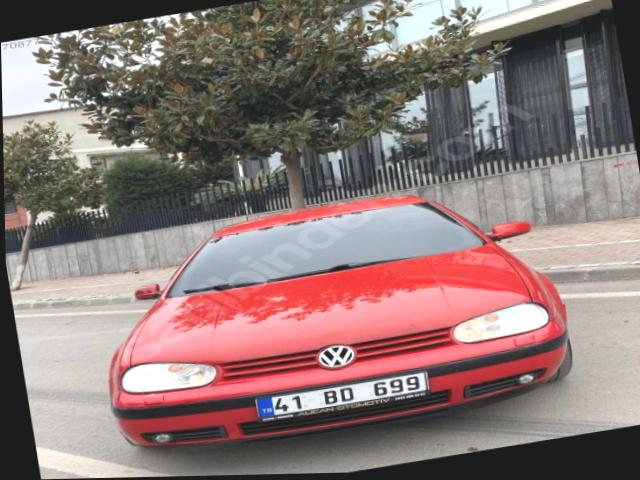plaka: (257, 371, 429, 421)
